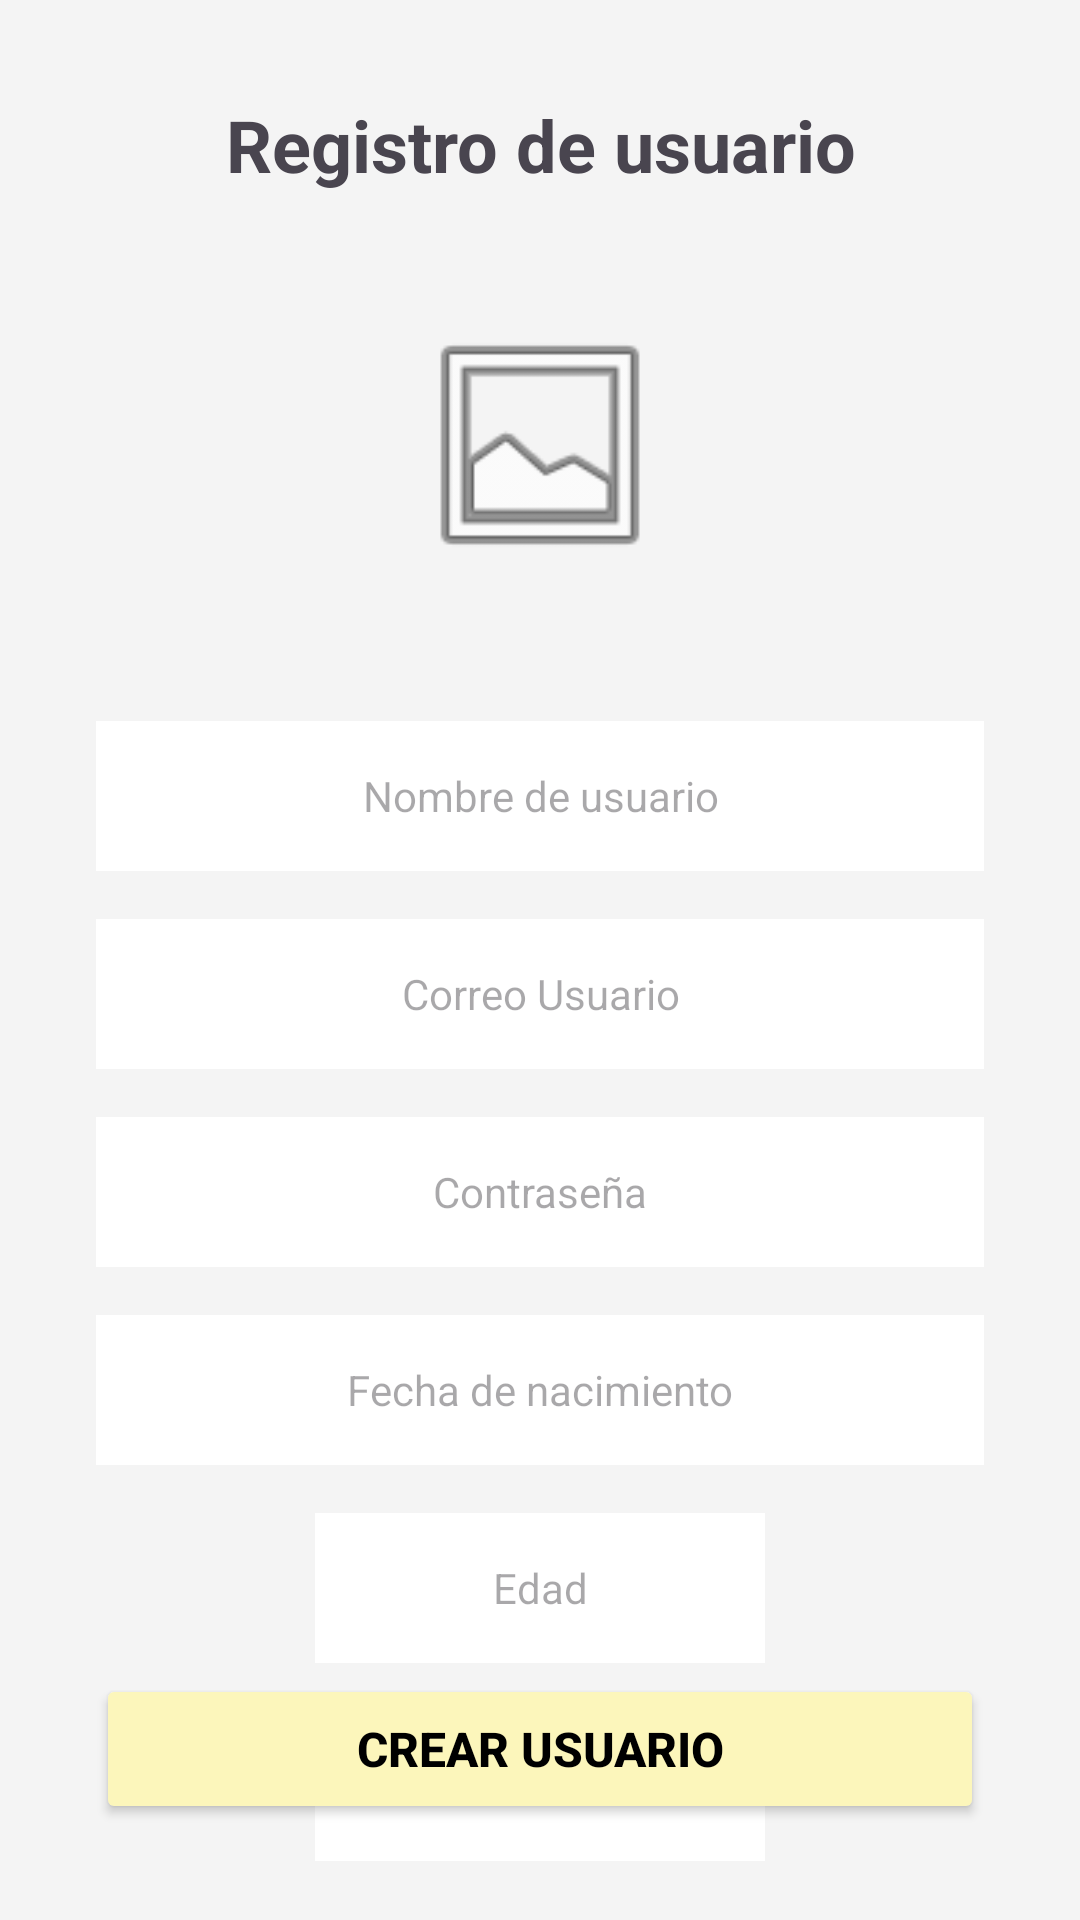

Screen size 1080 x 1920. Icon name, then its center in pixels as point (x, y):
gallery: point (540, 445)
